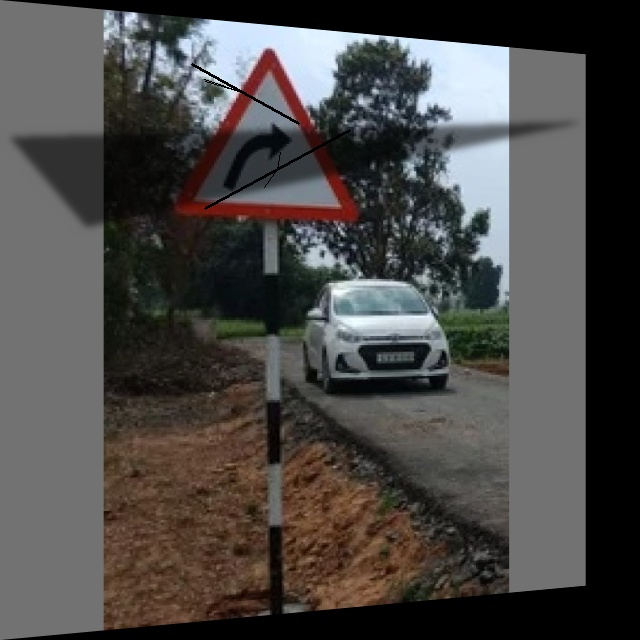Right_Hand_Curve: (177, 43, 355, 219)
